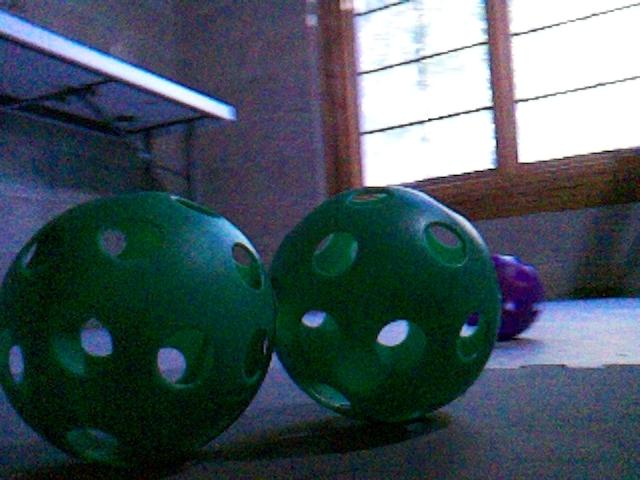Green: (1, 192, 277, 467), (266, 186, 500, 424)
Purple: (490, 255, 542, 340)
